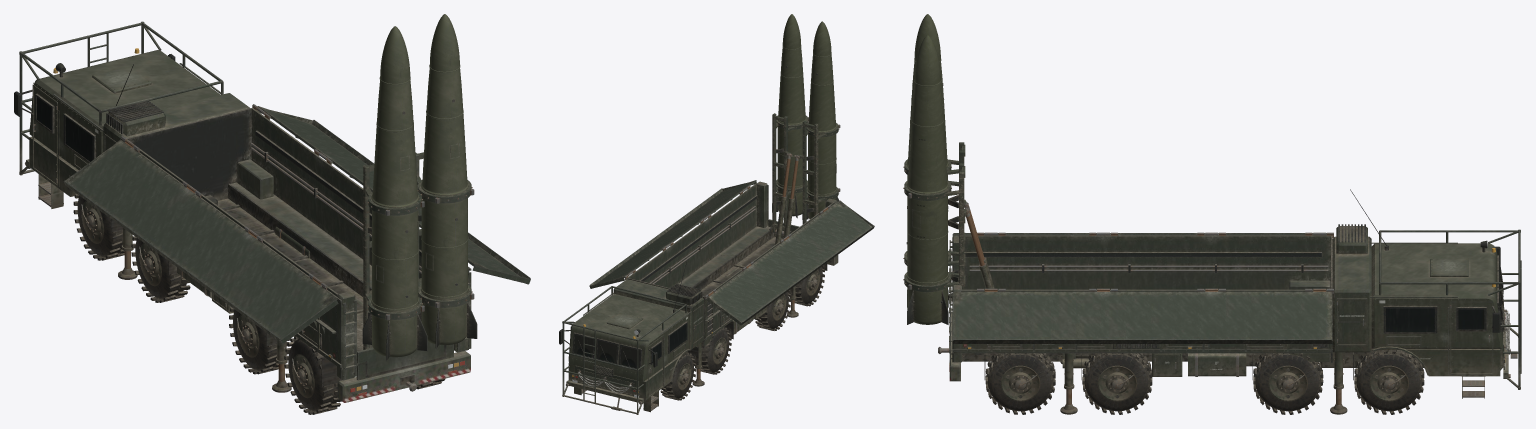
Rendered from l_iskander.glb.
3 views of the same model, side by side, from view 1: azimuth 30°, elevation 25°; view 2: azimuth 150°, elevation 25°; view 3: azimuth 270°, elevation 25° (orthographic). The views are drawn at different scales.
Visible parts, largest first — view 1: body_bay, lid_l, tbm2, body_cab, tbm, lid_r, body_equip, wheel_4l, body_guard, boom_l, wheel_2l, wheel_1l (+3 smaller); view 2: body_cab, body_bay, lid_l, tbm2, tbm, lid_r, body_equip, body_guard, boom_l, boom_r, wheel_2l, wheel_1l (+2 smaller); view 3: body_bay, lid_r, body_cab, tbm, body_equip, wheel_1r, wheel_4r, wheel_3r, wheel_2r, body_chassis, body_guard, boom_r (+4 smaller).
Part boxes in pixels (x1,y1,x2,y2): body_bay: (111, 104, 471, 402); lid_l: (63, 139, 338, 344); tbm2: (362, 26, 427, 360); body_cab: (14, 50, 220, 208); tbm: (418, 14, 477, 348); lid_r: (256, 106, 530, 284); body_equip: (103, 93, 249, 152); wheel_4l: (284, 336, 341, 414); body_guard: (19, 22, 223, 173); boom_l: (363, 164, 424, 349); wheel_2l: (131, 236, 190, 302); wheel_1l: (73, 194, 132, 260); body_cab: (559, 261, 691, 412); body_bay: (624, 181, 838, 364); lid_l: (707, 200, 874, 325); tbm2: (802, 21, 839, 219); tbm: (772, 14, 807, 218); lid_r: (589, 180, 756, 288); body_equip: (613, 279, 704, 349); body_guard: (562, 286, 686, 414); boom_l: (794, 120, 840, 224); boom_r: (771, 113, 808, 235); wheel_2l: (700, 327, 731, 374); wheel_1l: (660, 352, 696, 400); body_bay: (938, 232, 1353, 381); lid_r: (952, 288, 1332, 343); body_cab: (1350, 189, 1517, 398); tbm: (906, 35, 948, 324); body_equip: (1332, 224, 1371, 352); wheel_1r: (1354, 350, 1424, 414); wheel_4r: (985, 353, 1055, 414); wheel_3r: (1082, 353, 1152, 414); wheel_2r: (1253, 353, 1323, 414); body_chassis: (962, 352, 1423, 376); body_guard: (1379, 230, 1521, 388); boom_r: (904, 163, 967, 301).
Bounding box in the file's own units: 5.86 × 9.29 × 14.31.
8 materials, 8 textured.
